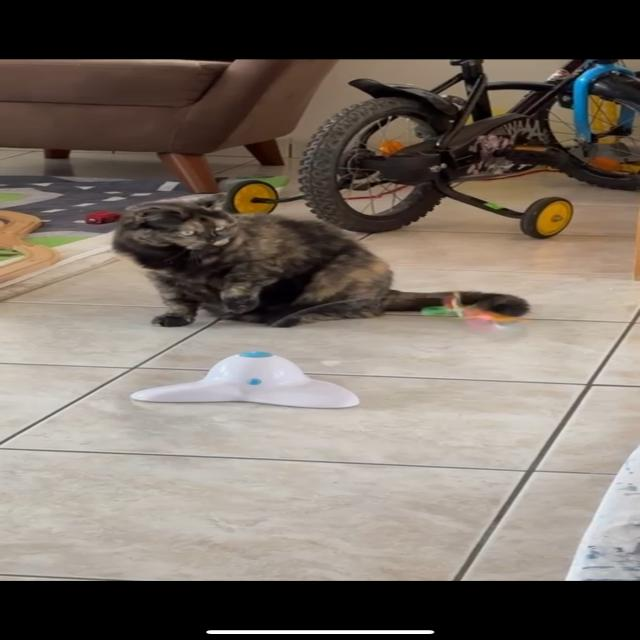authorized: (110, 191, 530, 329)
